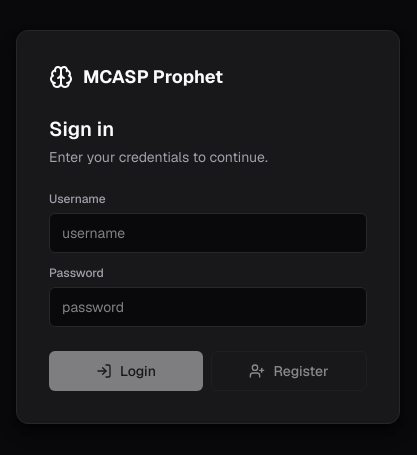
Scenario: LoginPage › Register Flow › shows username taken error when register returns 409
Type "existinguser" into the field with placeholder "username" at (208, 233), box [49,213,367,253]
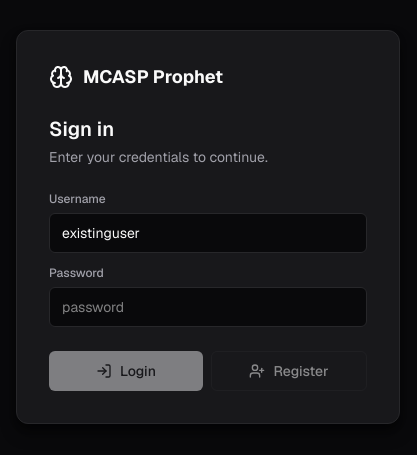
Type "somepass" into the password field with placeholder "password" at (208, 307), box [49,287,367,327]
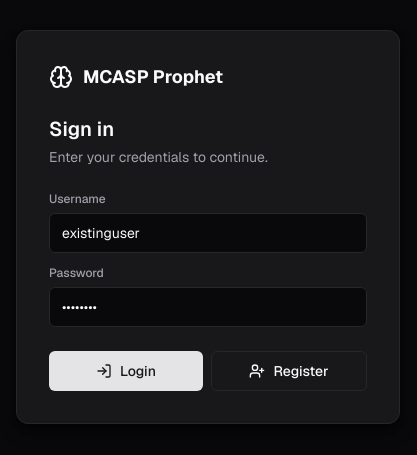
Click the button "Register" at (289, 371), box [211,351,367,391]
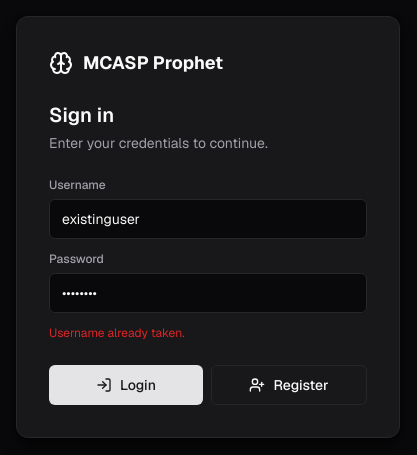
Expected: the text "Username already taken." is shown, [49,325,185,341]
